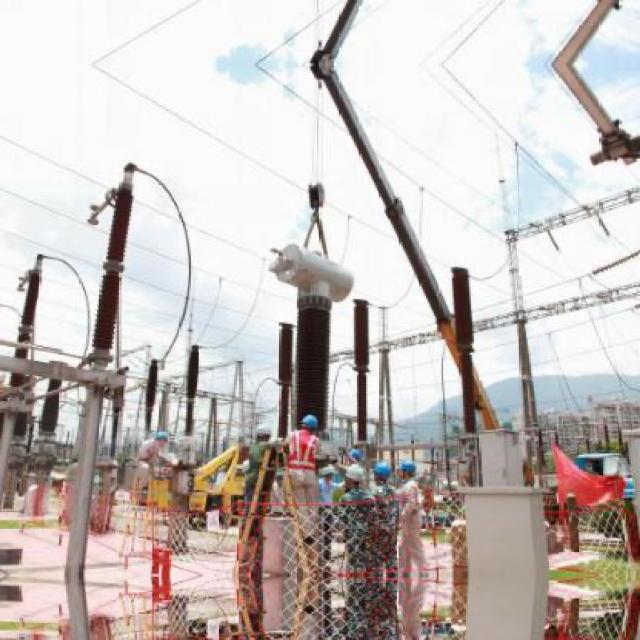helmet: (340, 464, 365, 494), (371, 463, 398, 487), (297, 414, 323, 436), (396, 457, 418, 481), (252, 420, 274, 441)
